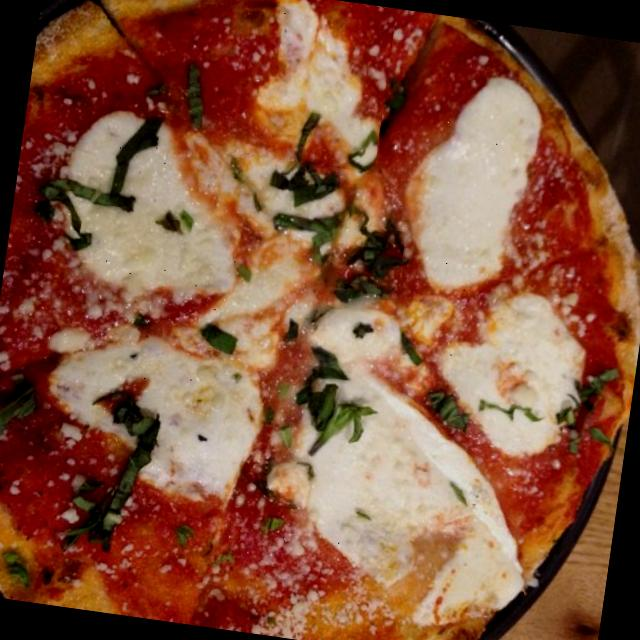basil: (70, 386, 172, 580), (256, 160, 372, 286), (278, 356, 374, 462), (98, 90, 182, 202), (328, 222, 406, 316), (40, 167, 143, 230), (0, 370, 47, 458)
cheese: (271, 355, 546, 640), (35, 100, 267, 330), (38, 312, 262, 510), (391, 72, 549, 306), (423, 278, 600, 463), (231, 0, 397, 172), (302, 294, 412, 384)
pizza: (0, 0, 640, 640)
